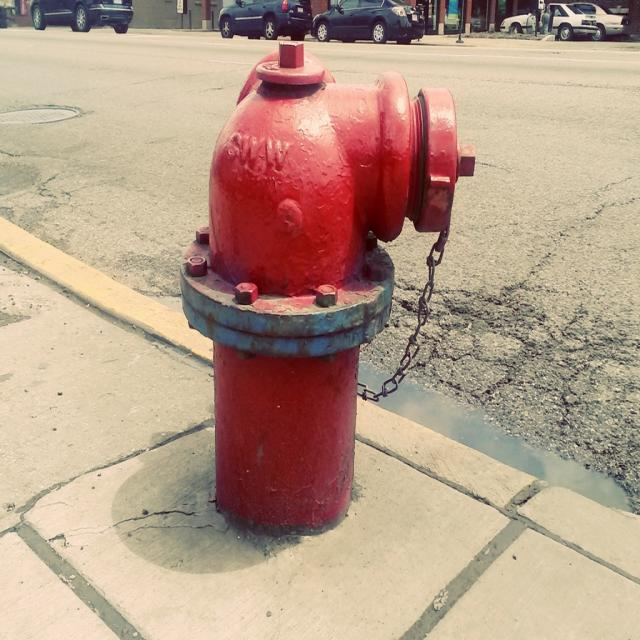fire_hydrant: (175, 35, 476, 536)
